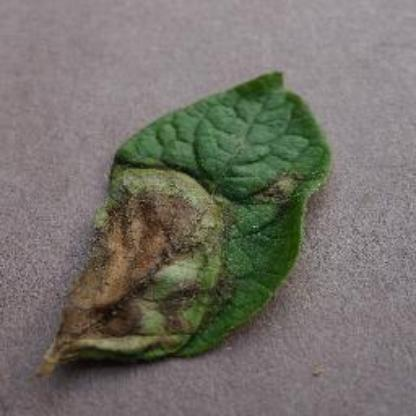Late-Blight: (41, 60, 347, 392)
